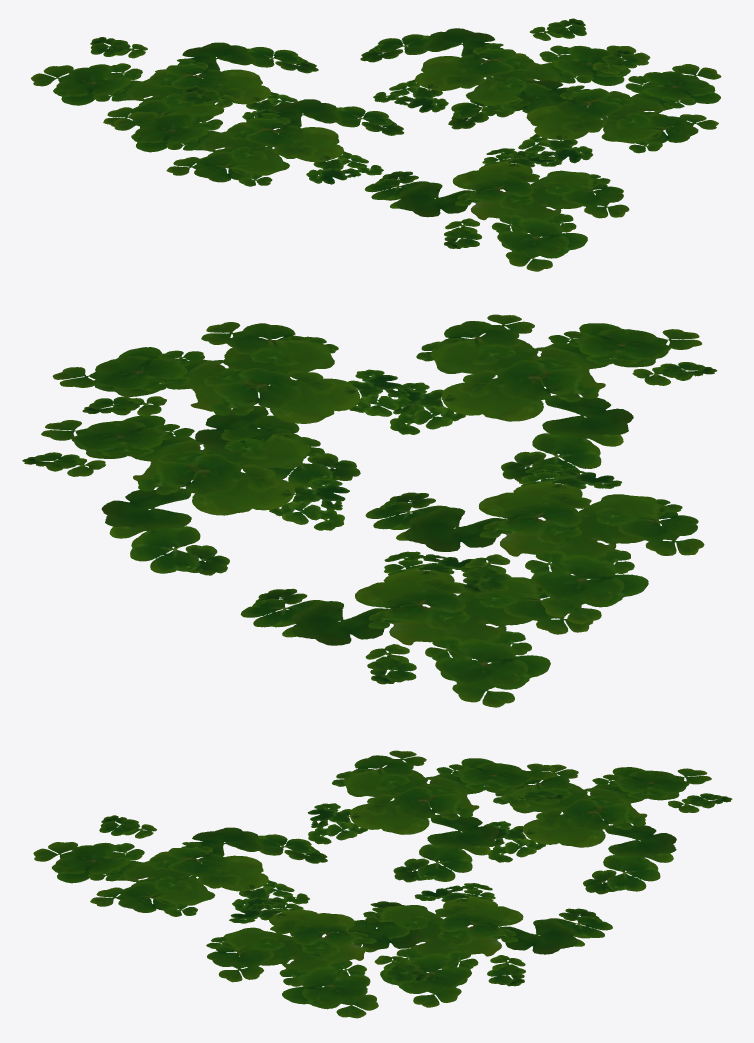
3 views of the same model, one above another, from view 1: azimuth 30°, elevation 25°; view 2: azimuth 150°, elevation 25°; view 3: azimuth 270°, elevation 25° (orthographic). The views are drawn at different scales.
Parts seen in each view (by area): view 1: SM_BM_Sorrel_D_LOD0; view 2: SM_BM_Sorrel_D_LOD0; view 3: SM_BM_Sorrel_D_LOD0.
Boxes of the visible parts, <box> form: SM_BM_Sorrel_D_LOD0: <box>31,18,721,271</box>; SM_BM_Sorrel_D_LOD0: <box>22,314,717,707</box>; SM_BM_Sorrel_D_LOD0: <box>33,750,732,1018</box>.
Bounding box in the file's own units: 0.782 × 0.0452 × 0.8798.
1 material, 1 textured.
